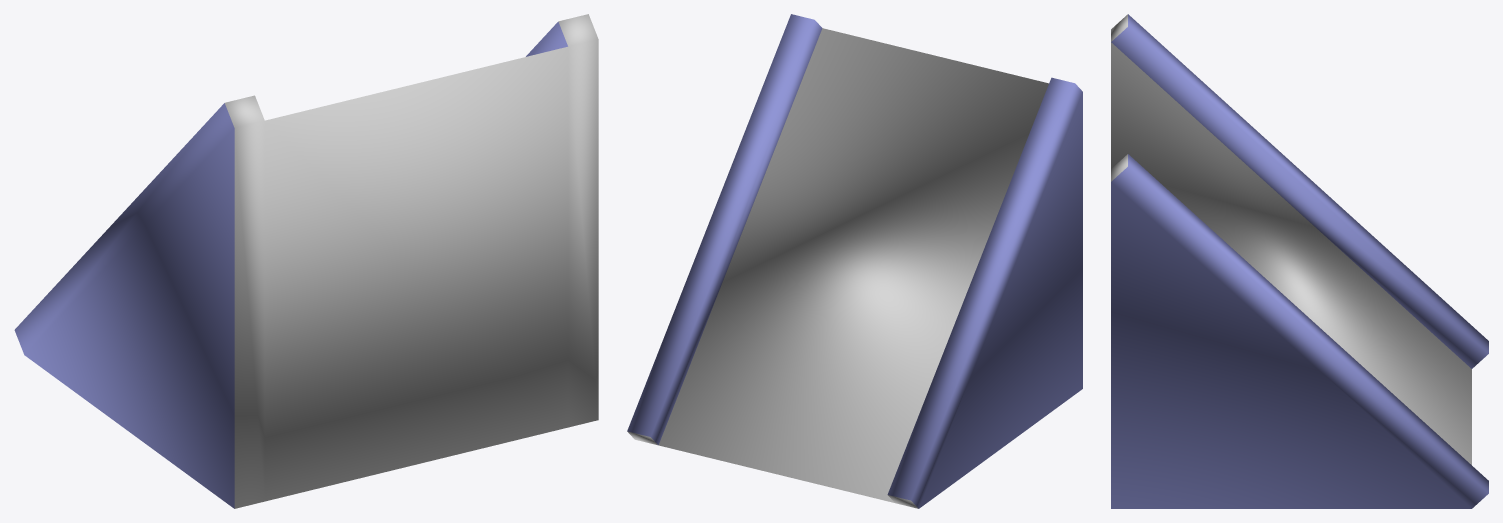
File: Ramp-def.fbx
3 views of the same model, side by side, from view 1: azimuth 30°, elevation 25°; view 2: azimuth 150°, elevation 25°; view 3: azimuth 270°, elevation 25° (orthographic). The views are drawn at different scales.
Parts seen in each view (by area): view 1: Ramp-45; view 2: Ramp-45; view 3: Ramp-45.
Boxes of the visible parts, x1=… form: Ramp-45: x1=14, y1=14, x2=598, y2=508; Ramp-45: x1=627, y1=14, x2=1082, y2=508; Ramp-45: x1=1111, y1=14, x2=1488, y2=508.
Size of the model in its own units: 0.6 by 0.6283 by 0.6283.
